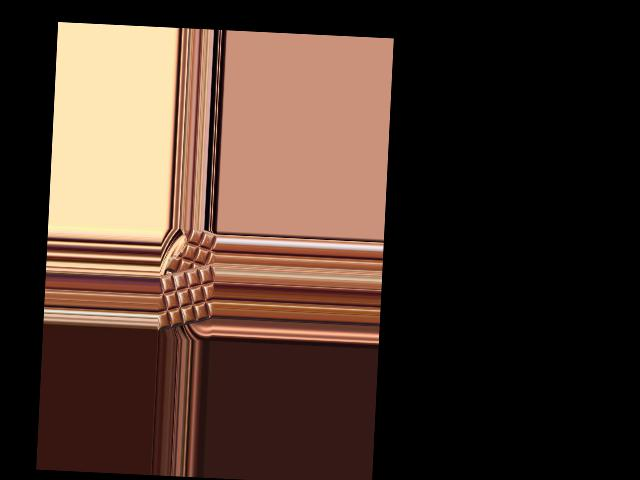chocolate: (158, 259, 216, 334)
